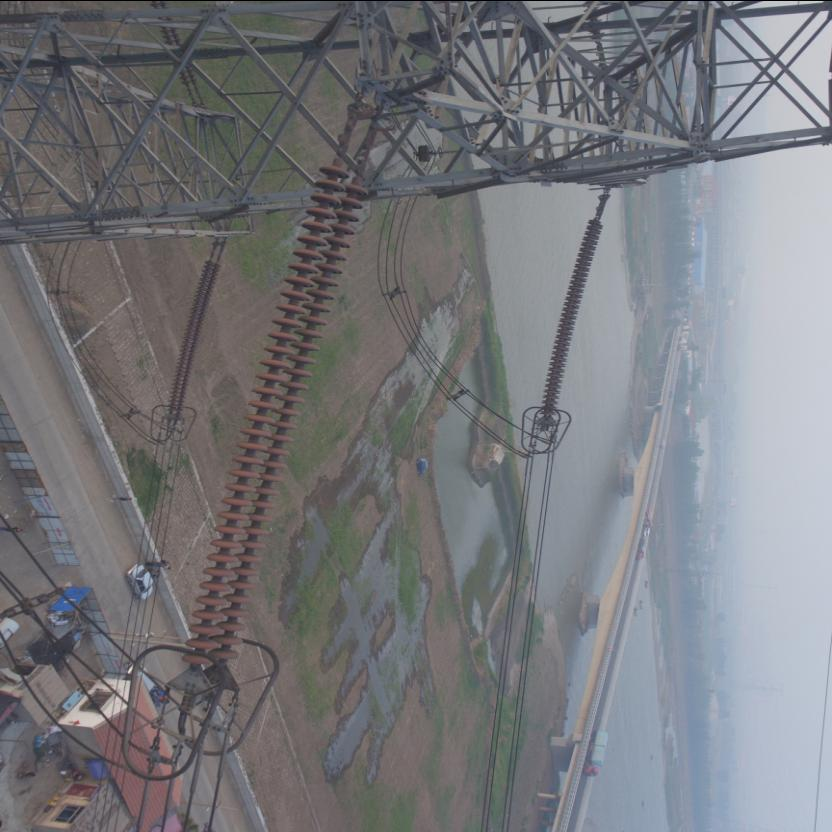insulator: (178, 142, 374, 678), (540, 202, 612, 423), (168, 250, 224, 419)
